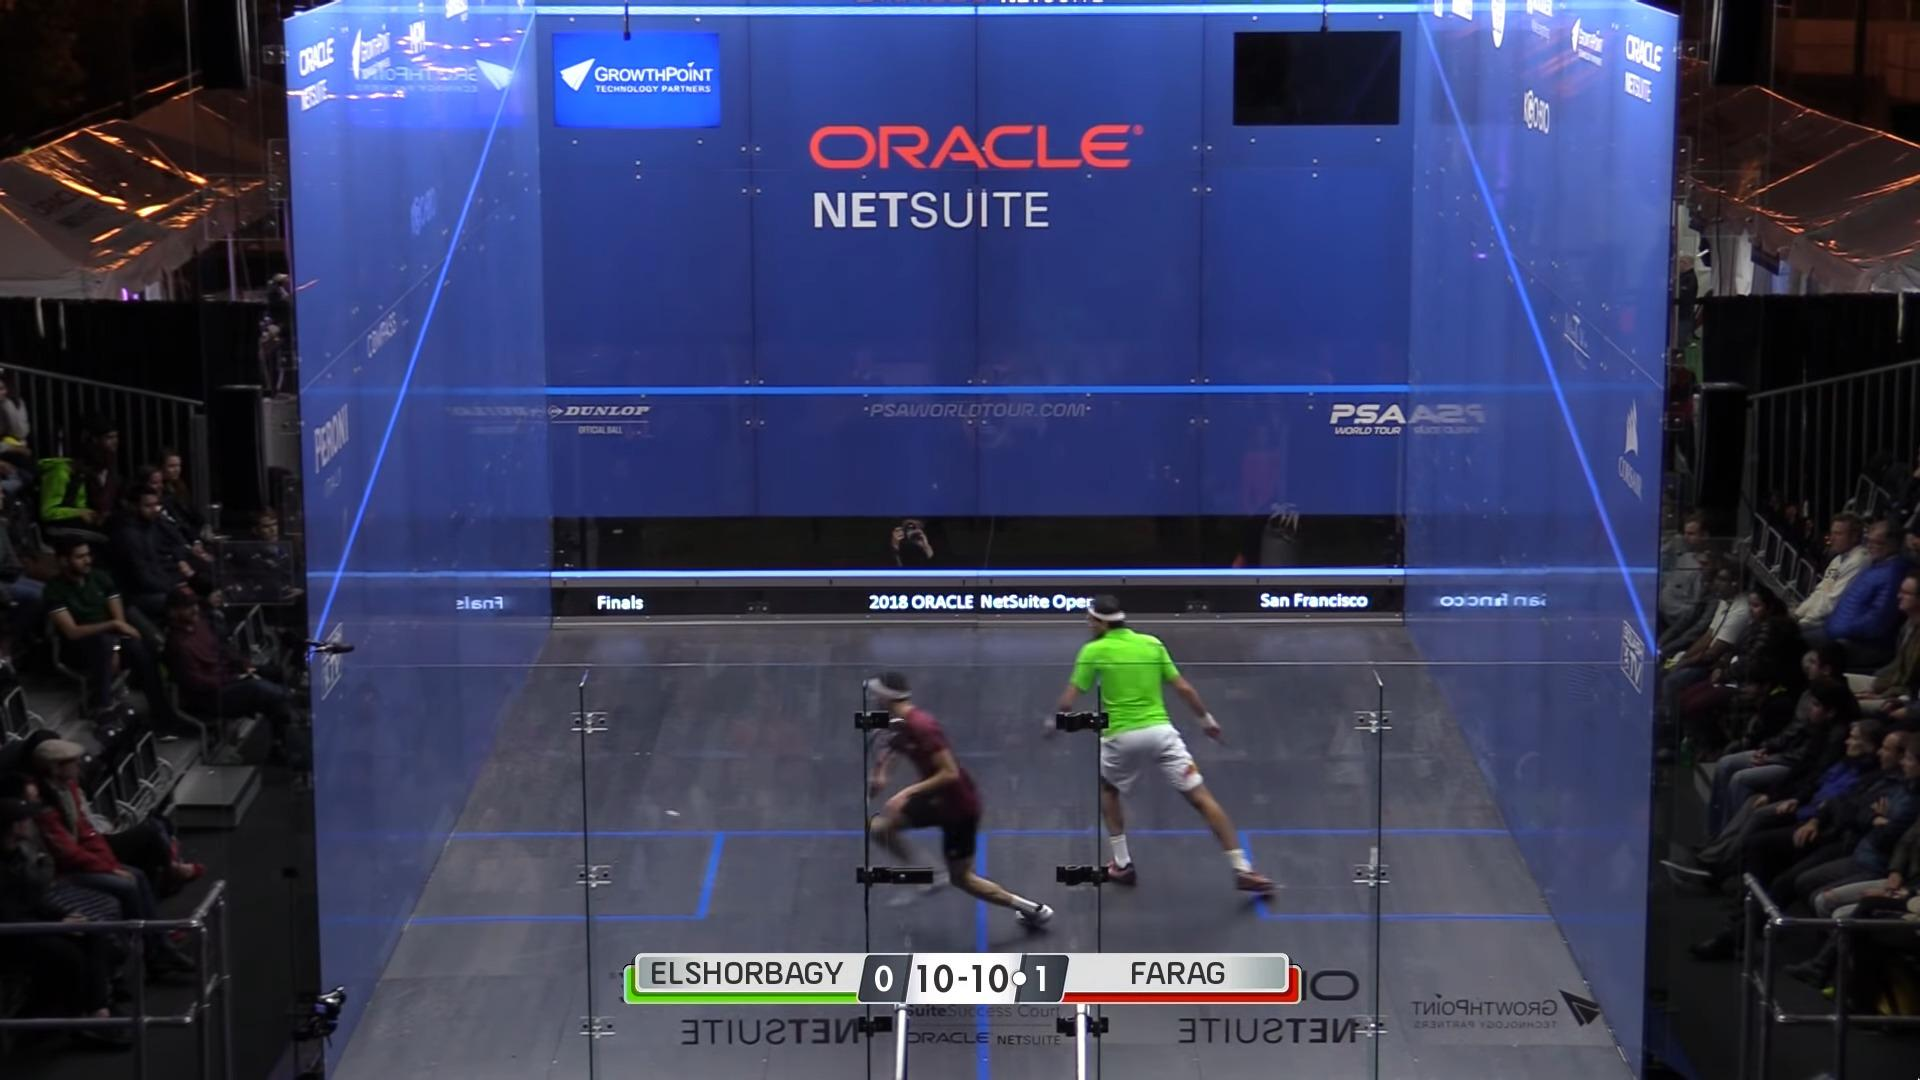Squash-Ball: (657, 804, 688, 823)
